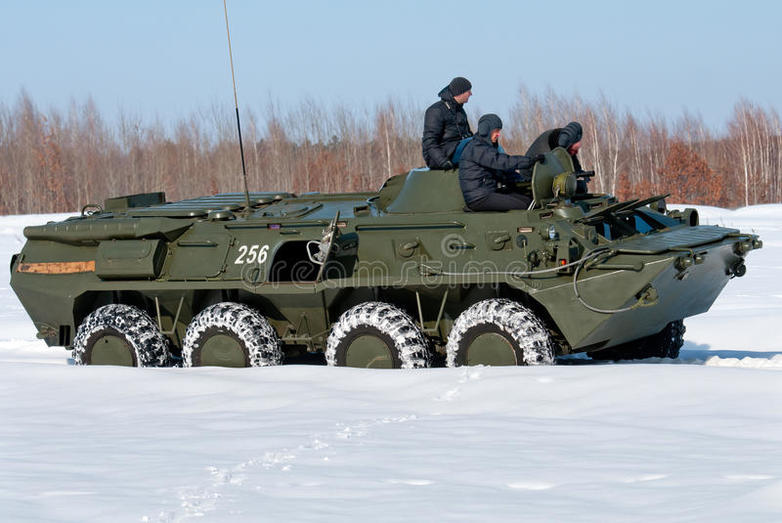btr: (7, 190, 753, 352)
